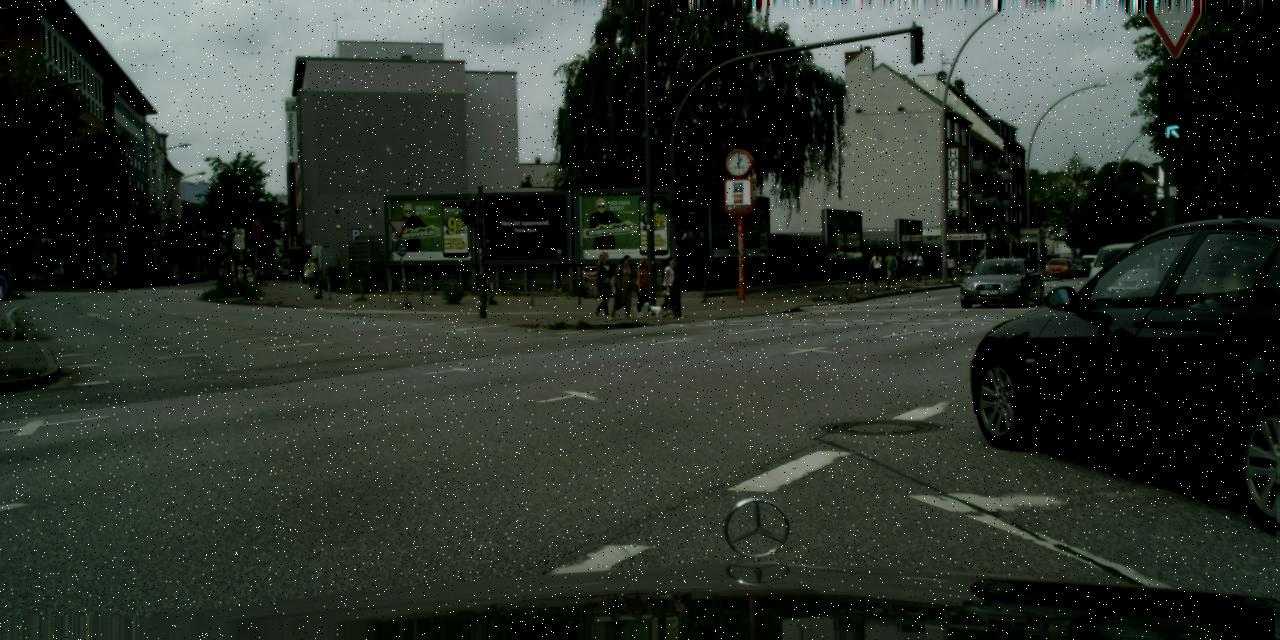ped: (589, 250, 617, 319), (610, 255, 636, 317), (630, 258, 652, 314), (658, 256, 680, 312), (884, 250, 897, 284), (869, 252, 882, 283), (304, 258, 316, 290), (904, 250, 916, 280), (911, 251, 922, 280), (892, 252, 902, 279), (944, 253, 954, 278), (994, 250, 1004, 272), (1008, 253, 1016, 273)
